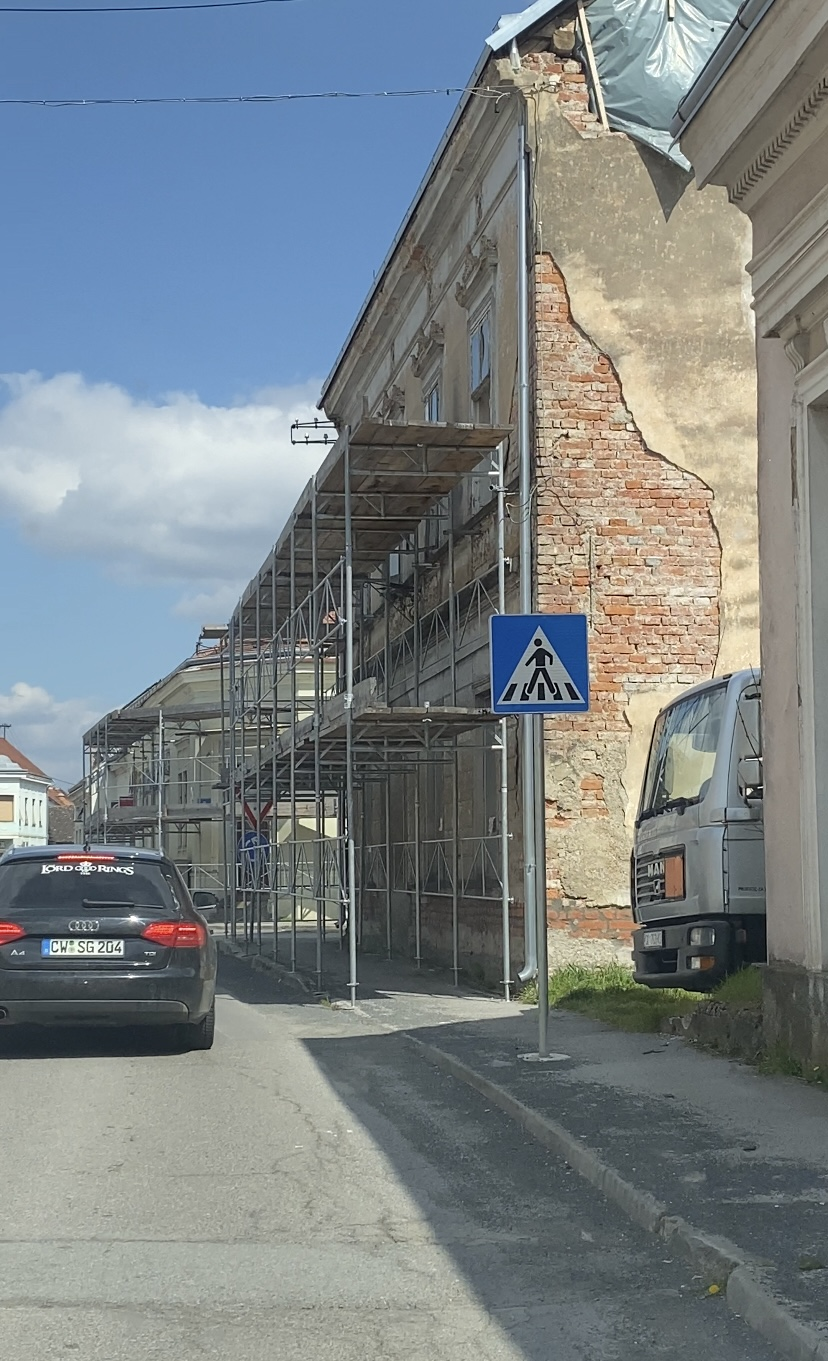Pješački prijelaz: (490, 614, 589, 715)
